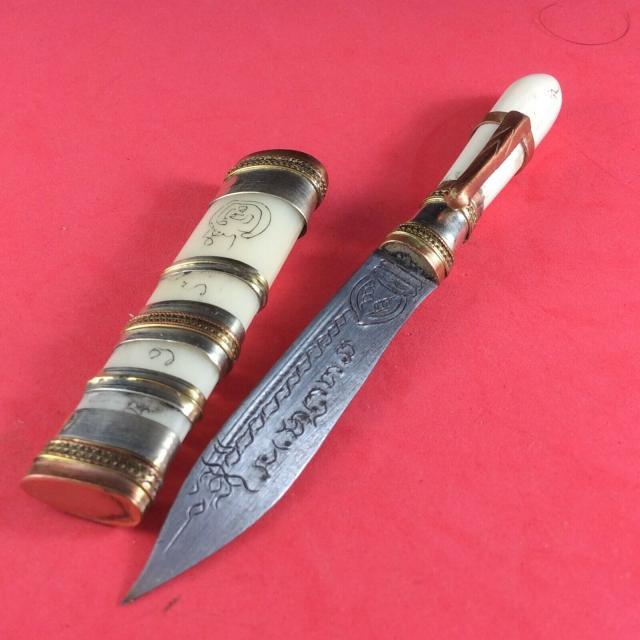short sword: (45, 80, 570, 607)
